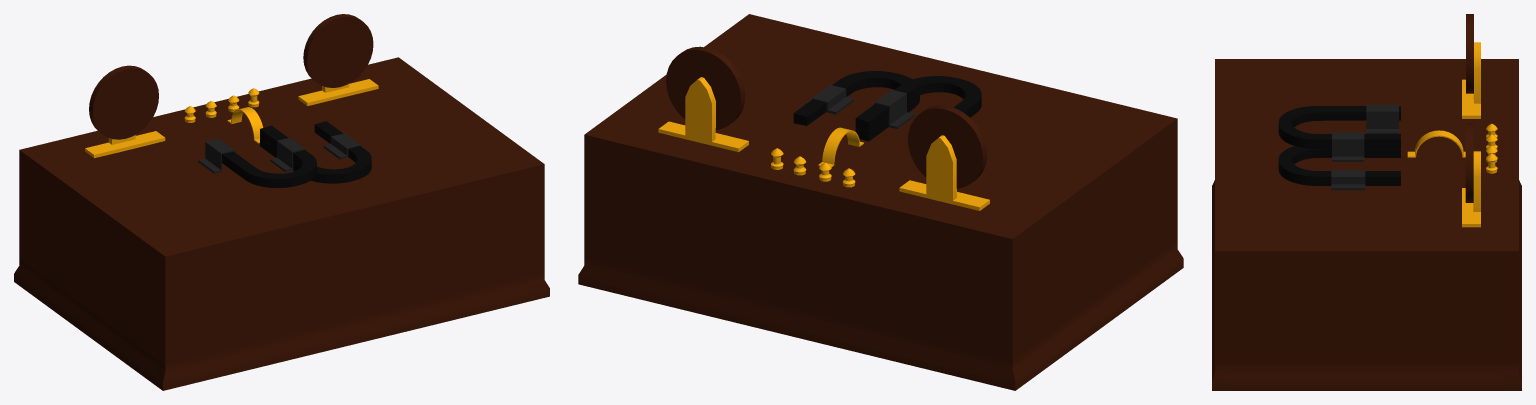
Rendered from detector.obj.
3 renders of one model, left to right at view 1: azimuth 30°, elevation 25°; view 2: azimuth 150°, elevation 25°; view 3: azimuth 270°, elevation 25°, orthographic. The views are drawn at different scales.
Visible parts, largest first — view 1: Cylinder.003; view 2: Cylinder.003; view 3: Cylinder.003.
Boxes of the visible parts, x1,y1,x2,y2 form: Cylinder.003: [14, 14, 549, 390]; Cylinder.003: [578, 14, 1183, 390]; Cylinder.003: [1212, 14, 1521, 390].
Bounding box in the file's own units: 2.68 × 1.4 × 1.78.
